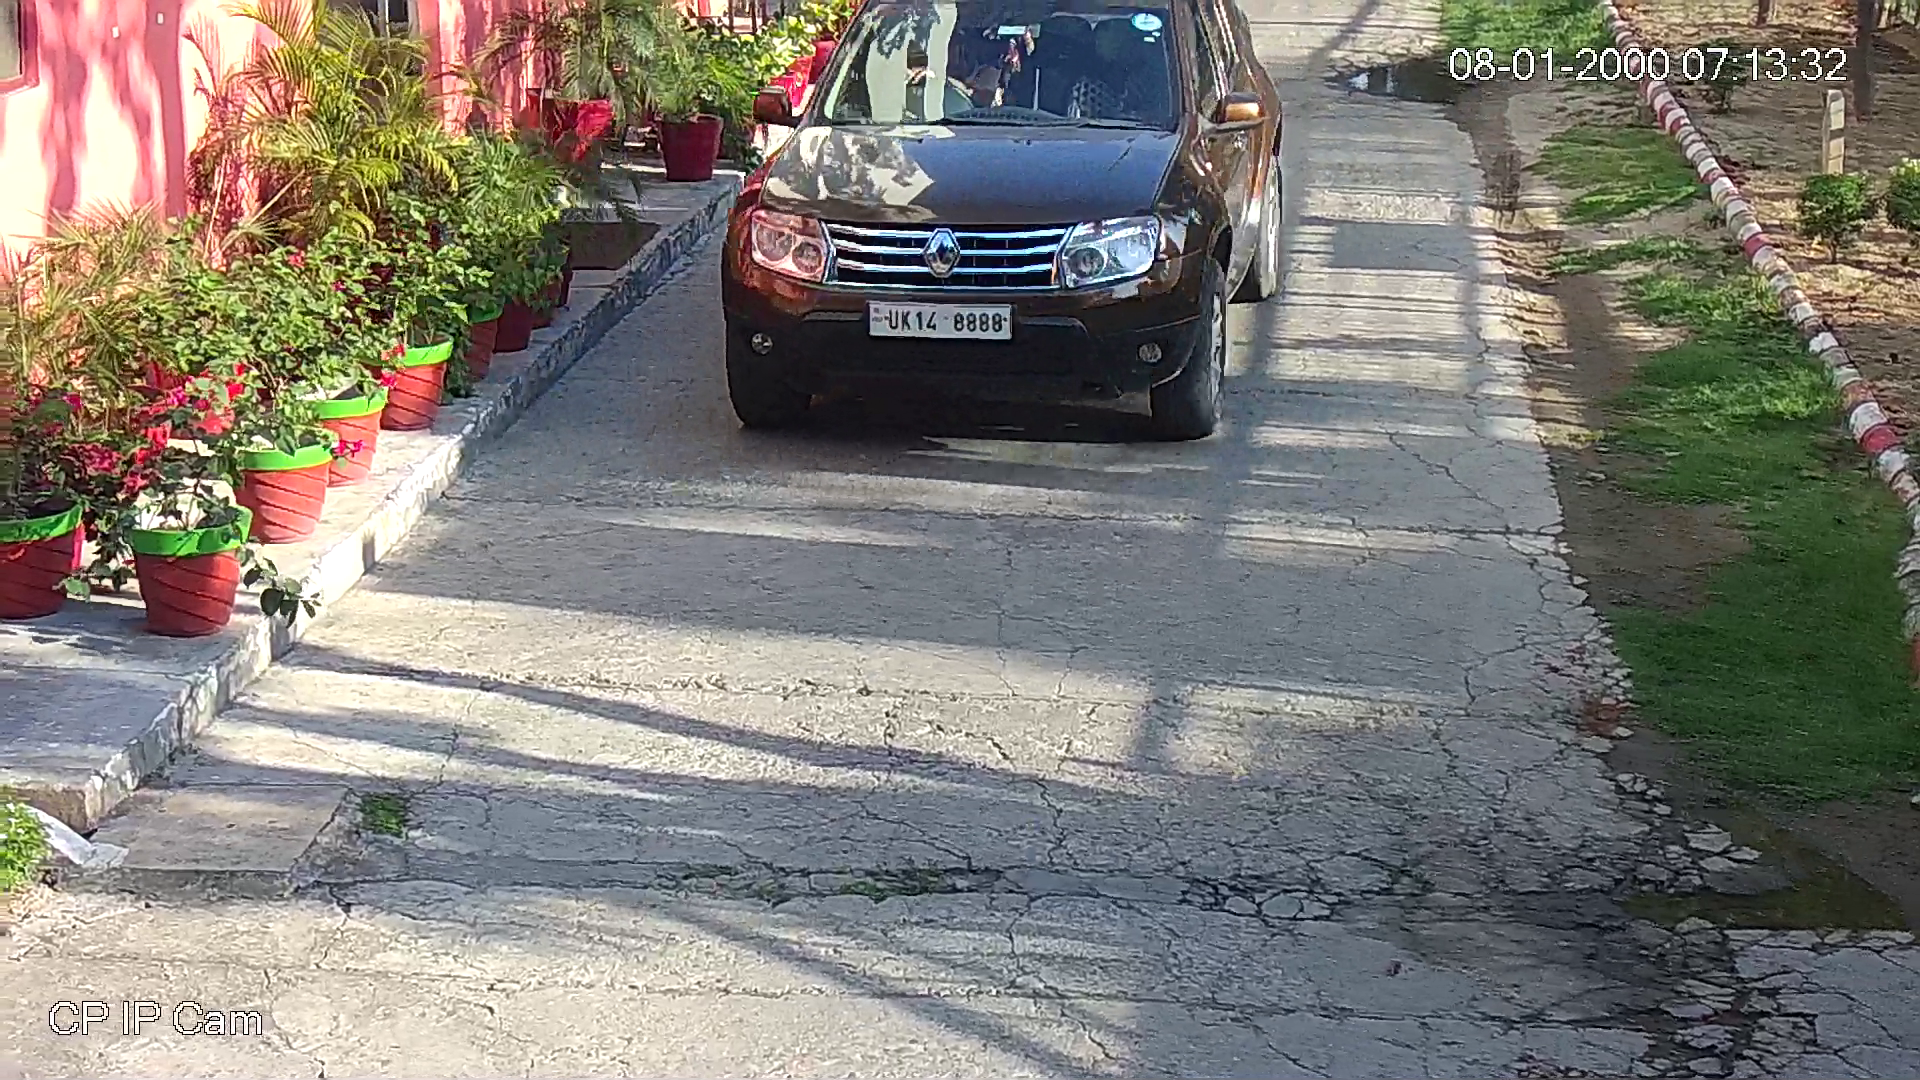plate: (862, 285, 1016, 344)
